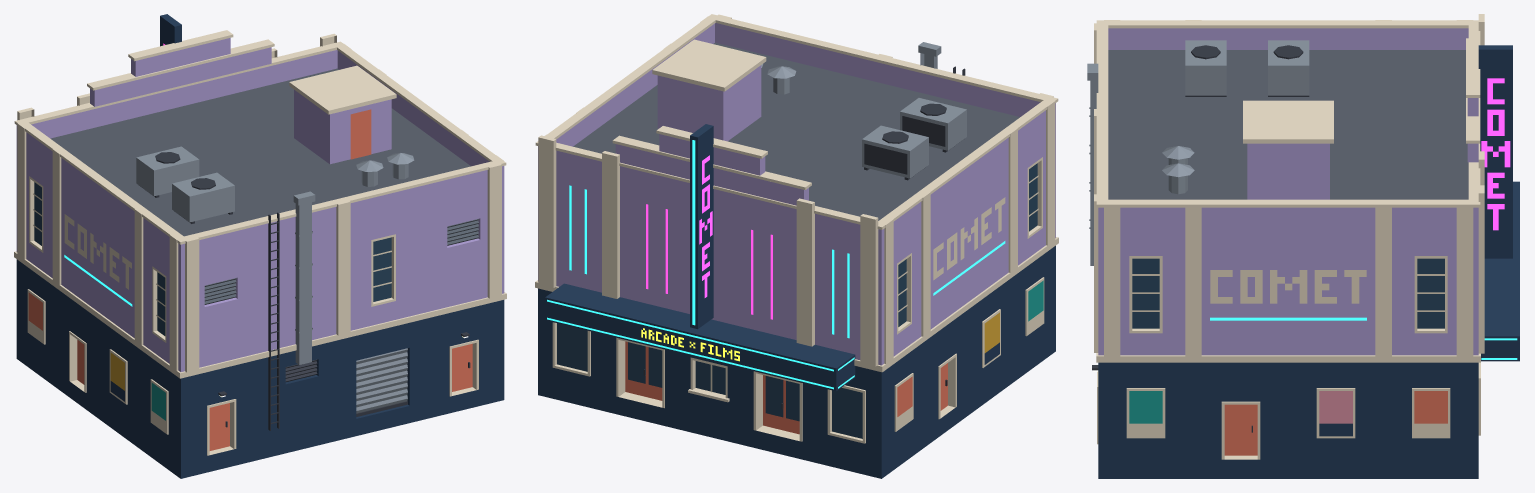
File: storefront_d.glb
3 views of the same model, side by side, from view 1: azimuth 30°, elevation 25°; view 2: azimuth 150°, elevation 25°; view 3: azimuth 270°, elevation 25° (orthographic). The views are drawn at different scales.
Parts seen in each view (by area): view 1: Building, Building_Detail, Building_Glass; view 2: Building, Building_Detail, Building_Glass, Building_Neon; view 3: Building, Building_Detail, Building_Glass, Building_Neon.
Boxes of the visible parts, left/top/right/bottom form: Building: left=14, top=30, right=506, bottom=478; Building_Detail: left=136, top=14, right=470, bottom=427; Building_Glass: left=34, top=182, right=391, bottom=335; Building: left=535, top=14, right=1058, bottom=478; Building_Detail: left=545, top=64, right=966, bottom=409; Building_Glass: left=557, top=163, right=1037, bottom=438; Building_Neon: left=547, top=140, right=1005, bottom=389; Building: left=1087, top=14, right=1484, bottom=478; Building_Detail: left=1162, top=40, right=1519, bottom=432; Building_Glass: left=1132, top=258, right=1444, bottom=328; Building_Neon: left=1210, top=78, right=1517, bottom=359.
Bounding box in the file's own units: 15.86 × 13.62 × 15.72.
